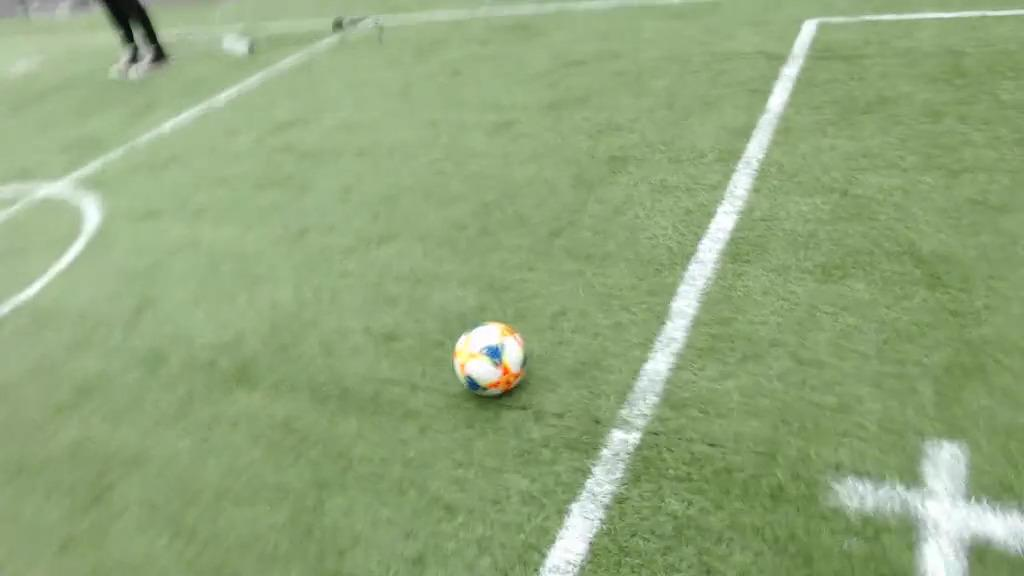ball: (444, 304, 542, 403)
